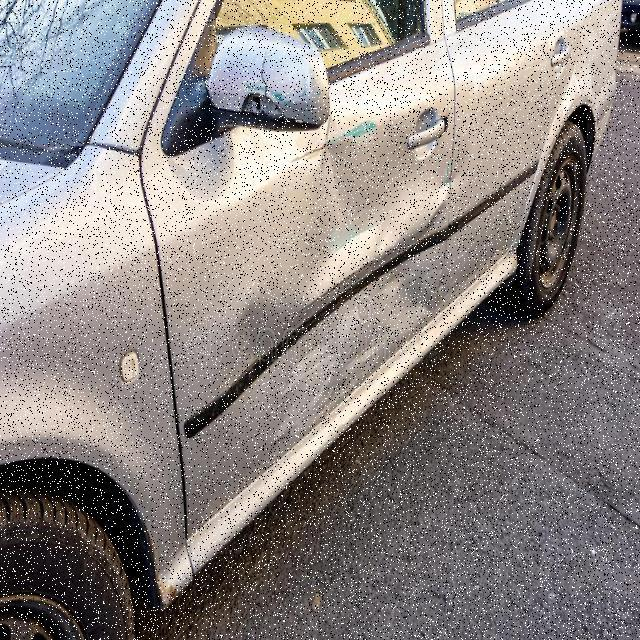Sidemirror-Damage: (190, 18, 348, 143)
doorouter-dent: (170, 146, 442, 442), (446, 36, 536, 288)
